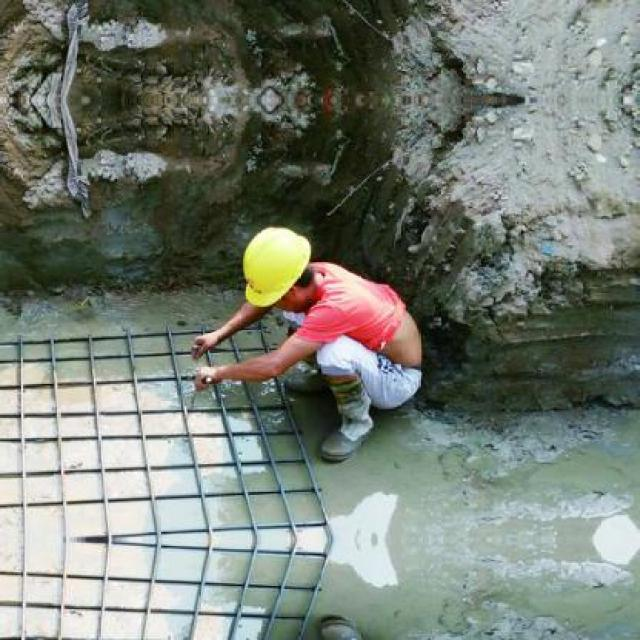helmet: (238, 222, 316, 307)
